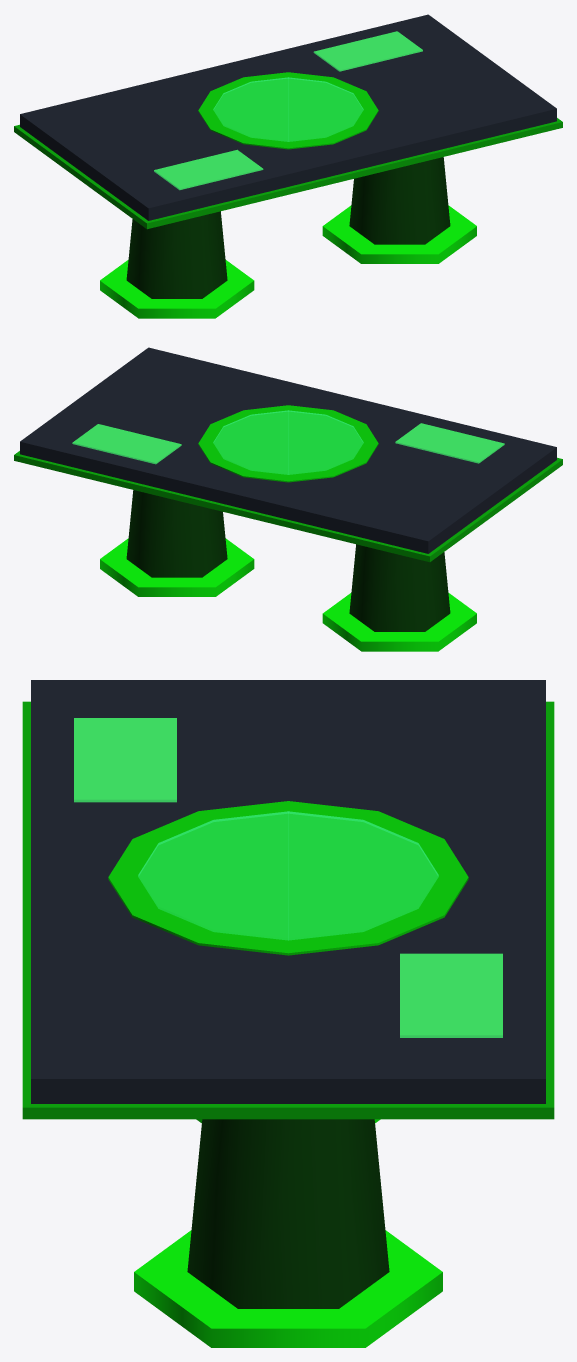
File: sci_briefing_table.glb
3 views of the same model, one above another, from view 1: azimuth 30°, elevation 25°; view 2: azimuth 150°, elevation 25°; view 3: azimuth 270°, elevation 25° (orthographic). The views are drawn at different scales.
Parts seen in each view (by area): view 1: tablero_facetado, anillo_emisor_holo, proyector_holografico_central, pedestal_central_izq, pedestal_central_der, bisel_perimetral_aluminio, base_suelo_izq, base_suelo_der, pantalla_tactil_lateral_2, pantalla_tactil_lateral_1; view 2: tablero_facetado, anillo_emisor_holo, proyector_holografico_central, pedestal_central_izq, pedestal_central_der, bisel_perimetral_aluminio, base_suelo_izq, base_suelo_der, pantalla_tactil_lateral_1, pantalla_tactil_lateral_2; view 3: tablero_facetado, anillo_emisor_holo, pedestal_central_der, proyector_holografico_central, base_suelo_der, bisel_perimetral_aluminio, pantalla_tactil_lateral_1, pantalla_tactil_lateral_2.
Boxes of the visible parts, x1,y1,x2,y2 form: tablero_facetado: (20,14,556,220); anillo_emisor_holo: (198,72,378,149); proyector_holografico_central: (213,77,363,141); pedestal_central_izq: (126,211,227,298); pedestal_central_der: (349,157,450,244); bisel_perimetral_aluminio: (14,118,562,229); base_suelo_izq: (100,259,254,318); base_suelo_der: (322,205,476,263); pantalla_tactil_lateral_2: (313,31,422,71); pantalla_tactil_lateral_1: (154,149,263,190); tablero_facetado: (20,347,556,553); anillo_emisor_holo: (198,405,378,482); proyector_holografico_central: (213,410,363,474); pedestal_central_izq: (349,544,450,631); pedestal_central_der: (126,490,227,577); bisel_perimetral_aluminio: (14,451,562,562); base_suelo_izq: (322,592,476,651); base_suelo_der: (100,538,254,596); pantalla_tactil_lateral_1: (395,423,504,463); pantalla_tactil_lateral_2: (72,424,181,464); tablero_facetado: (31,680,545,1103); anillo_emisor_holo: (108,801,468,955); pedestal_central_der: (187,1119,389,1308); proyector_holografico_central: (138,811,438,940); base_suelo_der: (134,1230,442,1347); bisel_perimetral_aluminio: (22,701,554,1119); pantalla_tactil_lateral_1: (74,718,176,802); pantalla_tactil_lateral_2: (400,953,502,1037).
Bounding box in the file's own units: 2.24 × 0.792 × 1.24.
Materials: 10 (9 with a texture image).
